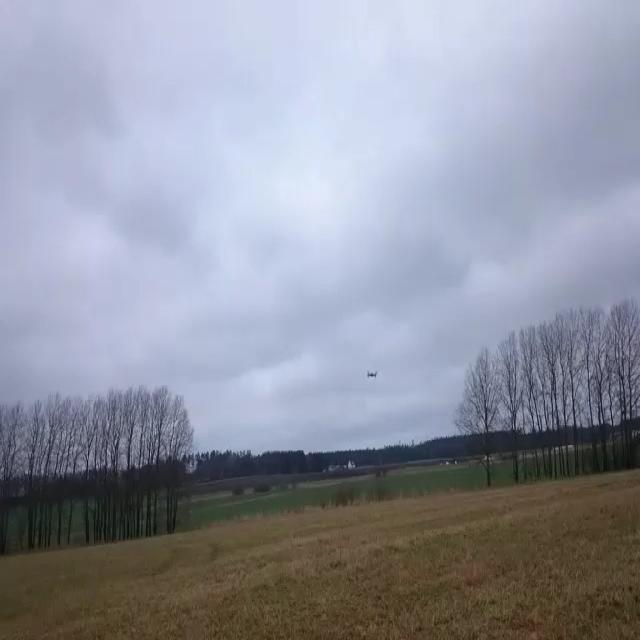drone: (367, 370, 377, 380)
